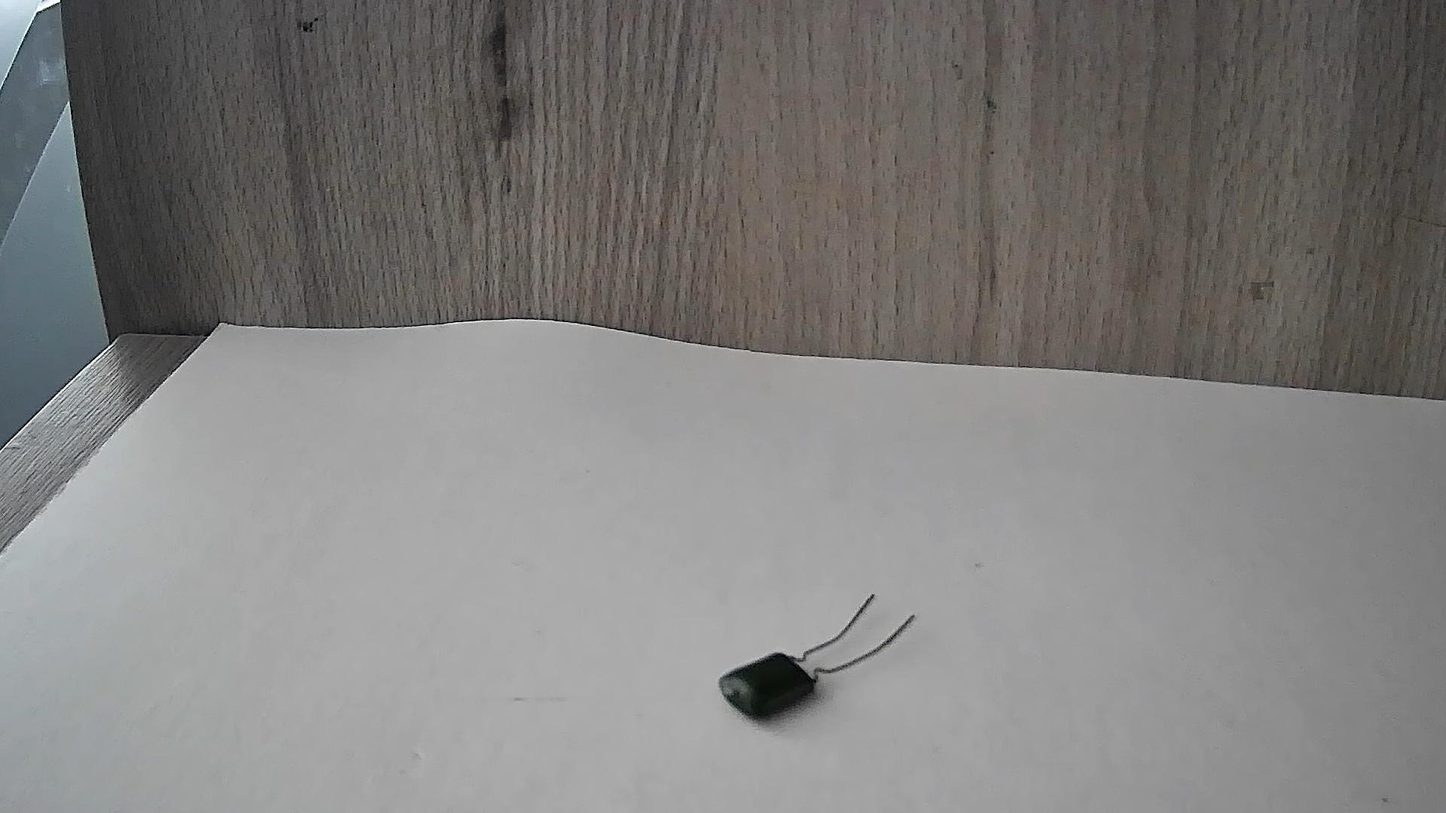capacitor ceramico: (683, 555, 965, 748)
